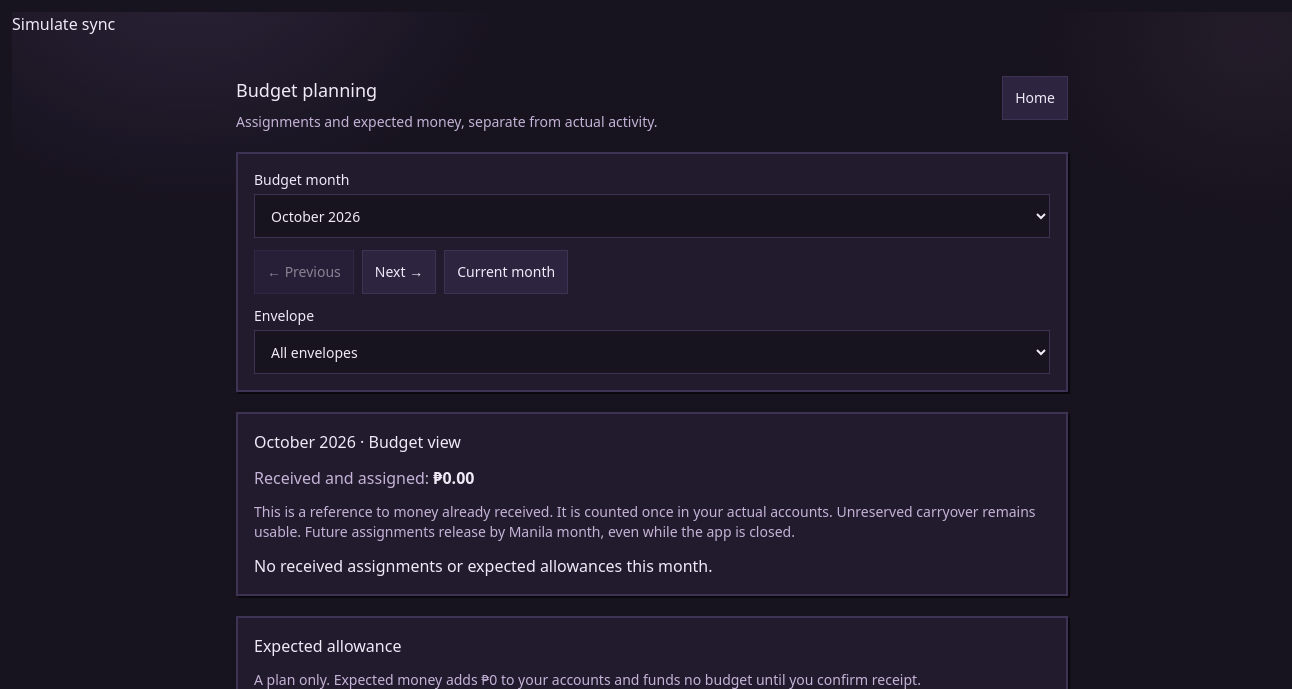
it: navigates future months, empty states, linked actual receipt and stored far-future assignments without changing cash
Expected: the heading "October 2026 · Budget view" is shown, [254,431,461,453]
Expected: the text "No received assignments or expected allowances this month." is shown, [254,555,712,577]
Select "November 2026" in the dropdown labelled "Budget month" at (652, 216), box [254,194,1050,238]
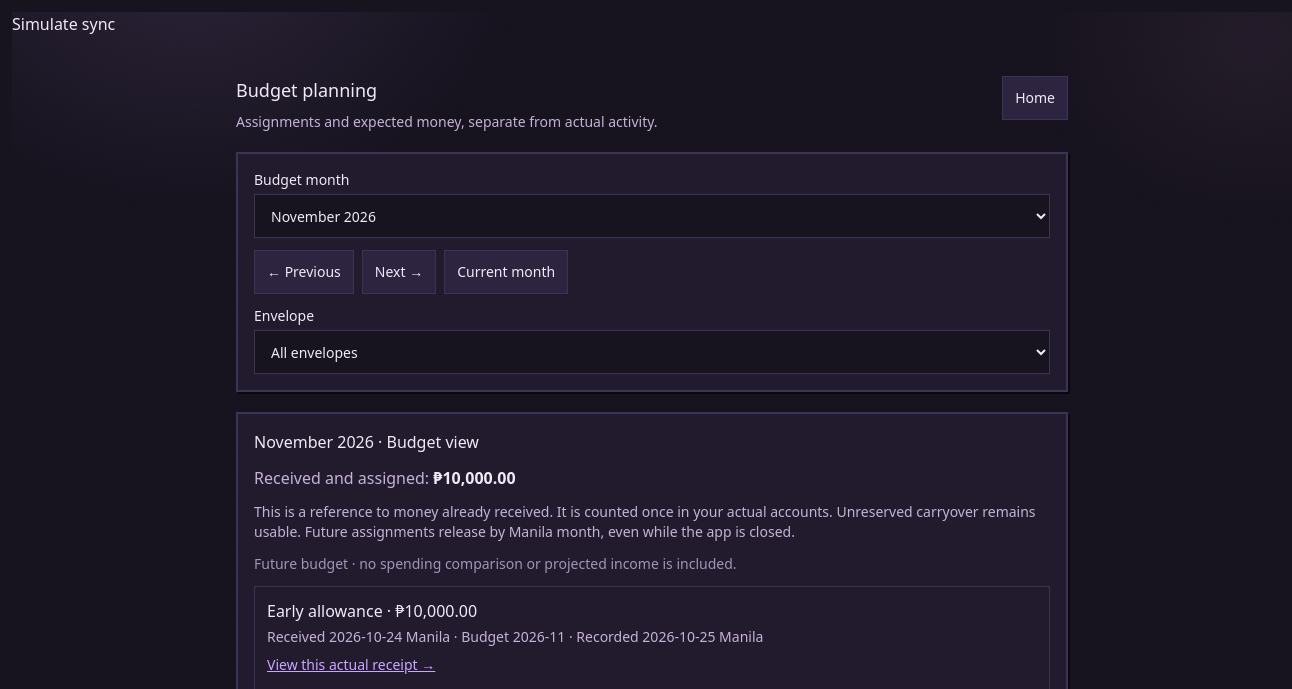
Expected: the heading "November 2026 · Budget view" is shown, [254,431,479,453]
Expected: the text "Early allowance · ₱10,000.00" is shown, [267,600,477,622]
Expected: the text "Received 2026-10-24 Manila · Budget 2026-11" is shown, [267,627,763,646]
Click the link "View this actual receipt →" at (351, 665), box [267,655,435,675]
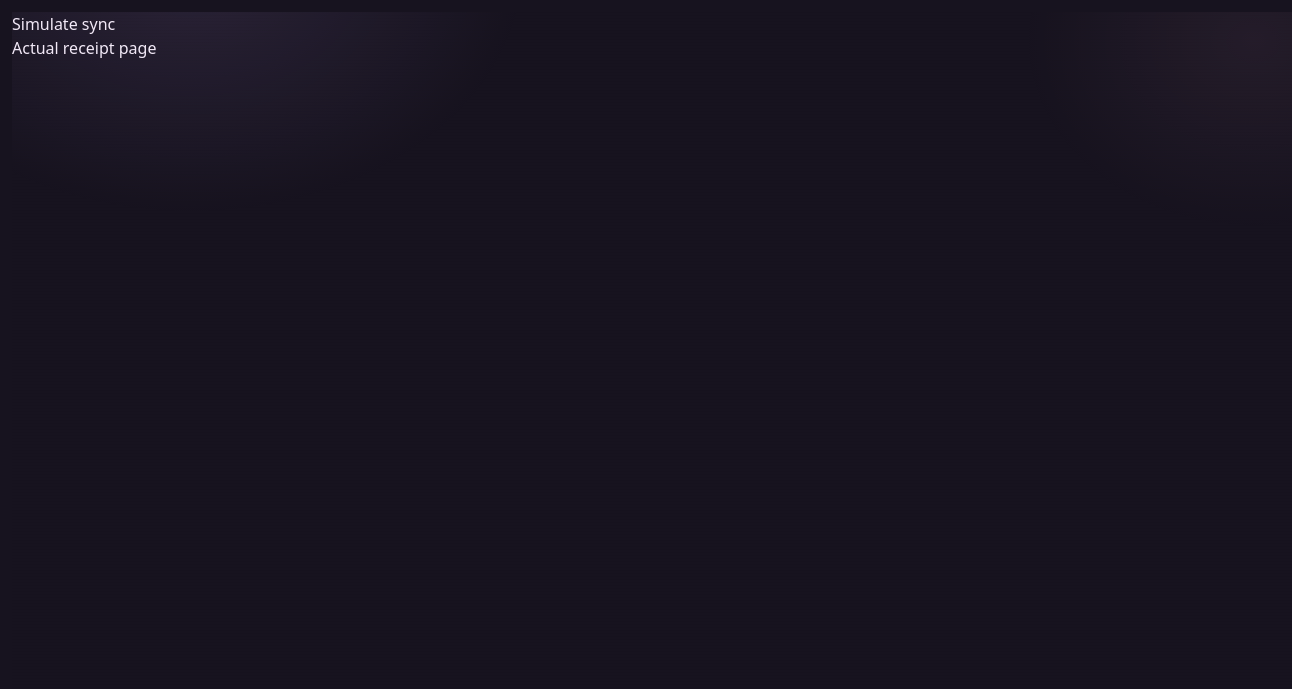
Expected: the text "Actual receipt page" is shown, [12,37,156,59]
